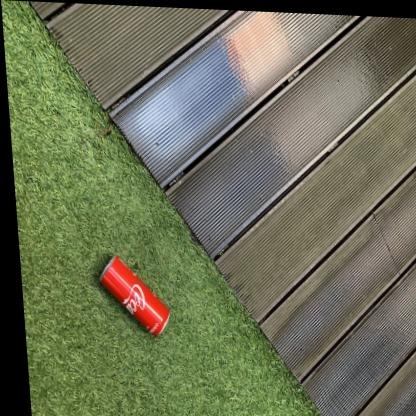trash: (100, 256, 169, 335)
